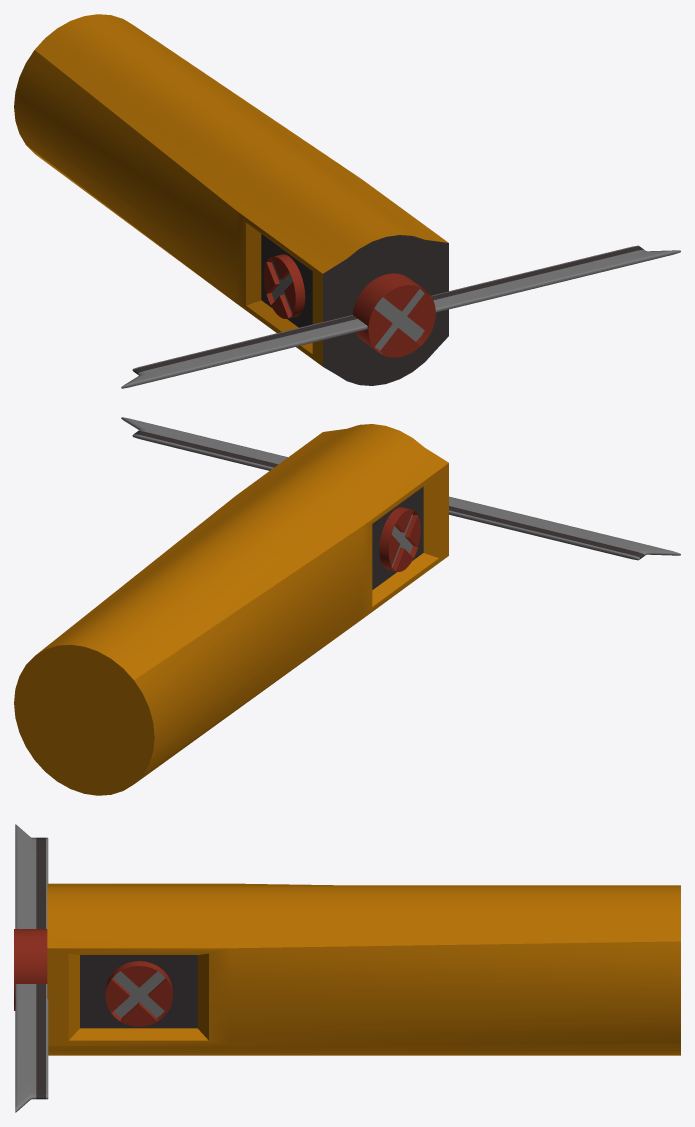
Rendered from Cutting_Part.fbx.
The picture shows the model from 3 angles, top to bottom: view 1: azimuth 30°, elevation 25°; view 2: azimuth 150°, elevation 25°; view 3: azimuth 270°, elevation 25°; orthographic projection. The views are drawn at different scales.
Visible parts, largest first — view 1: Cylinder, knife; view 2: Cylinder, knife; view 3: Cylinder, knife.
Boxes of the visible parts, x1,y1,x2,y2 form: Cylinder: (14,14,448,385); knife: (121,245,680,388); Cylinder: (14,424,448,795); knife: (121,417,680,560); Cylinder: (14,883,680,1055); knife: (15,824,48,1112).
Size of the model in its own units: 106 by 26.51 by 104.
